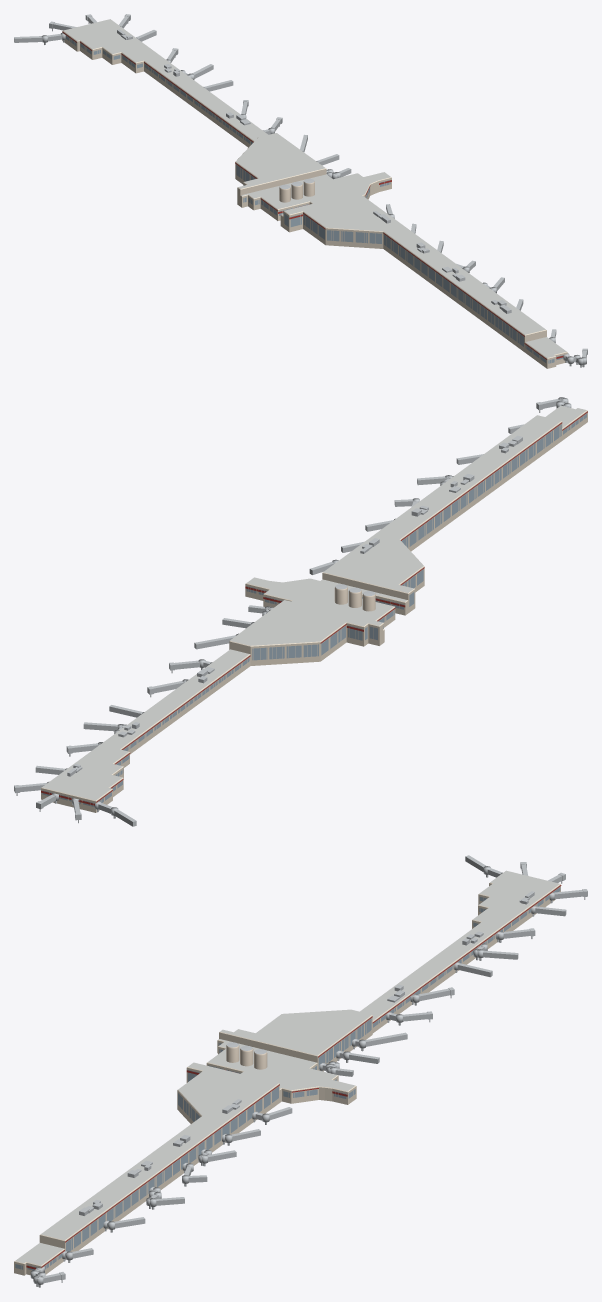
File: atl-hartsfield-jackson-concourse-t.detail.glb
3 views of the same model, one above another, from view 1: azimuth 30°, elevation 25°; view 2: azimuth 150°, elevation 25°; view 3: azimuth 330°, elevation 25° (orthographic). The views are drawn at different scales.
Visible parts, largest first — view 1: Hartsfield-Jackson Concourse T; view 2: Hartsfield-Jackson Concourse T; view 3: Hartsfield-Jackson Concourse T.
Boxes of the visible parts, x1,y1,x2,y2 form: Hartsfield-Jackson Concourse T: (14,14,587,368); Hartsfield-Jackson Concourse T: (14,397,587,826); Hartsfield-Jackson Concourse T: (14,855,587,1287).
Size of the model in its own units: 136 by 23.6 by 823.
